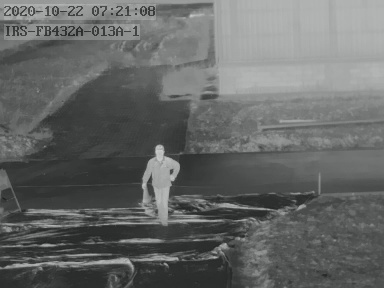person: (139, 142, 181, 224)
